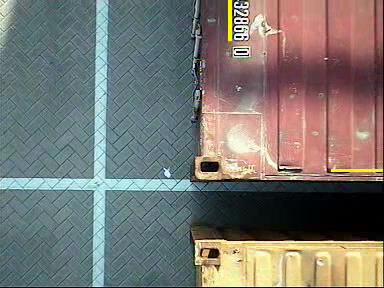groundmarker_2: (105, 90, 175, 133), (104, 231, 174, 273)
